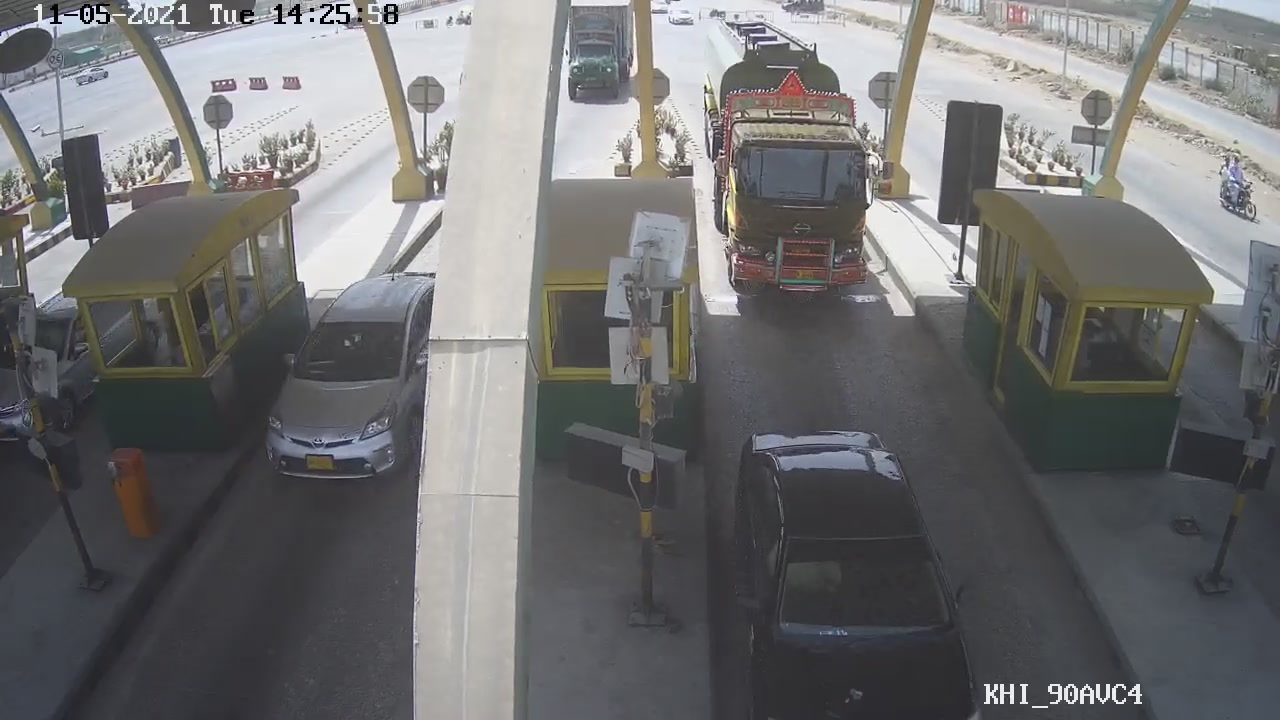F6: (698, 50, 879, 308)
